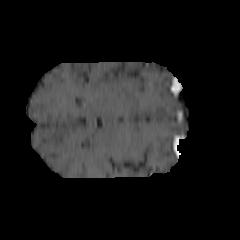glioma: (80, 79, 137, 126)
